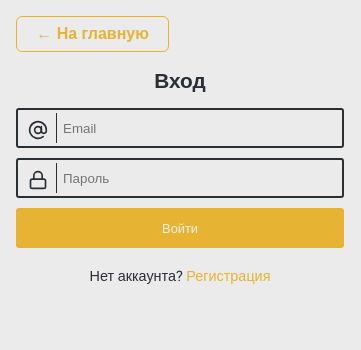
Scenario: LoginForm › показывает ошибку при неправильном логине/пароле
In the field with placeholder "Email": (180, 128) [16,108,344,148], type "wrong@mail.com"
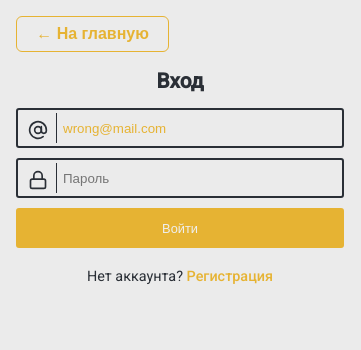
In the password field with placeholder "Пароль": (180, 178) [16,158,344,198], type "wrongpass"
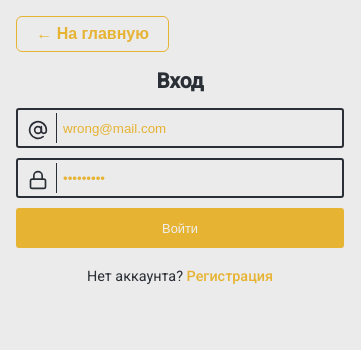
Click the button "Войти": (180, 228) [16,208,344,248]
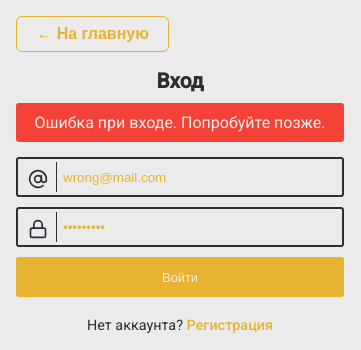
Result: the text "Ошибка при входе. Попробуйте позже." is shown at [16,104,344,142]
